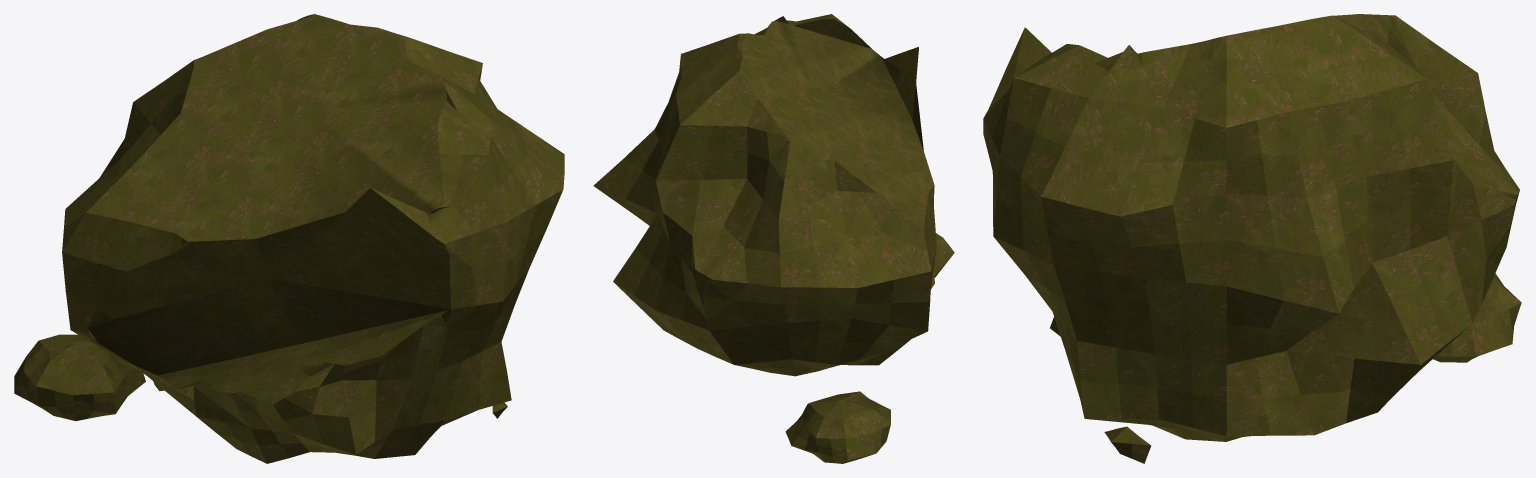
The model's file is cliff_2.glb.
The picture shows the model from 3 angles, left to right: view 1: azimuth 30°, elevation 25°; view 2: azimuth 150°, elevation 25°; view 3: azimuth 270°, elevation 25°; orthographic projection. The views are drawn at different scales.
Parts seen in each view (by area): view 1: cliff; view 2: cliff; view 3: cliff.
Boxes of the visible parts, x1,y1,x2,y2 form: cliff: (14,14,564,463); cliff: (593,14,954,463); cliff: (983,14,1521,463).
Size of the model in its own units: 7.93 by 7.05 by 7.92.
1 material, 1 textured.
